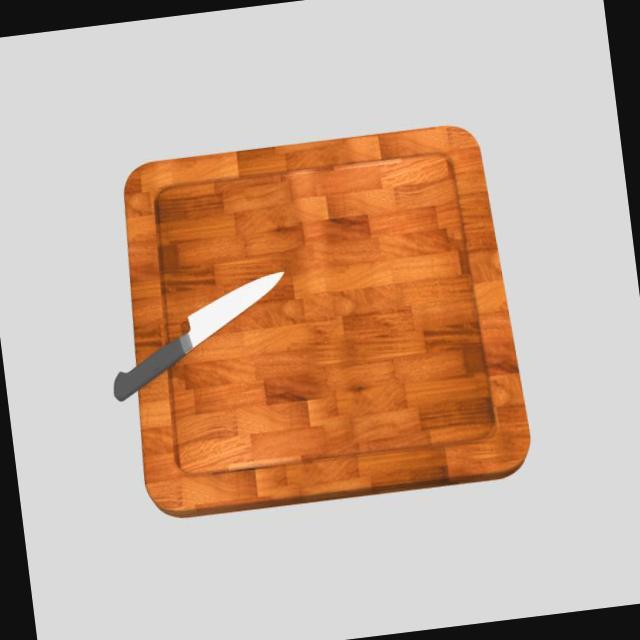knife: (108, 336, 190, 402)
